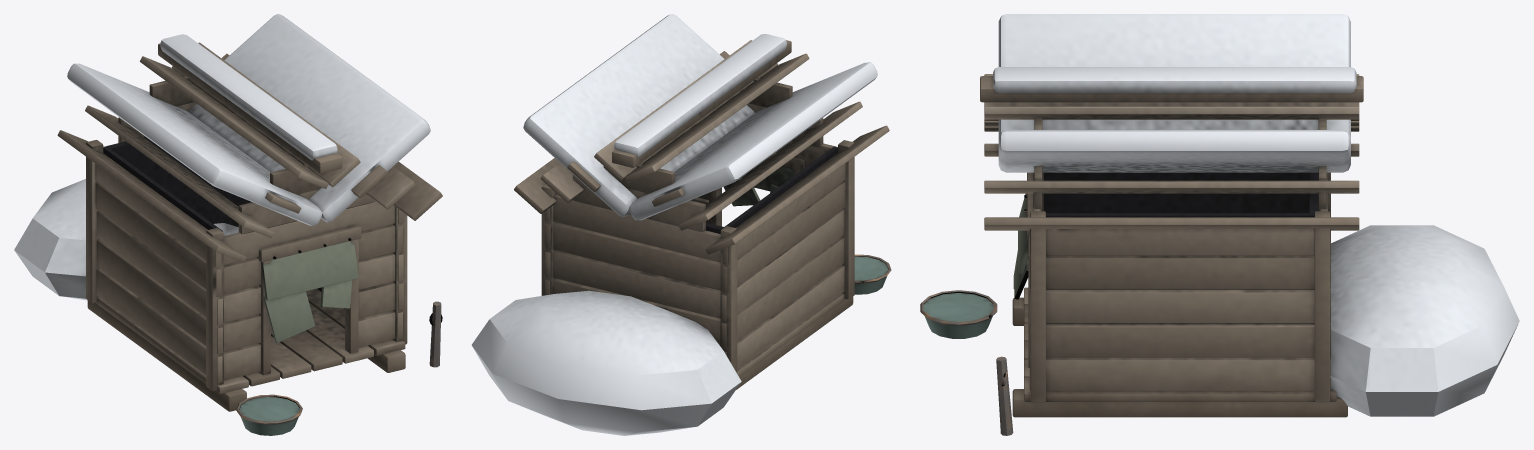
The model's file is doghouse.glb.
3 views of the same model, side by side, from view 1: azimuth 30°, elevation 25°; view 2: azimuth 150°, elevation 25°; view 3: azimuth 270°, elevation 25° (orthographic). The views are drawn at different scales.
Parts seen in each view (by area): view 1: doghouse; view 2: doghouse; view 3: doghouse.
Boxes of the visible parts, x1,y1,x2,y2 form: doghouse: [14, 14, 442, 435]; doghouse: [471, 14, 891, 435]; doghouse: [920, 14, 1519, 435].
Size of the model in its own units: 1.18 by 1.23 by 2.11.
Materials: 1 (1 with a texture image).
